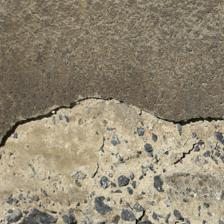Crack: (1, 47, 220, 102)
